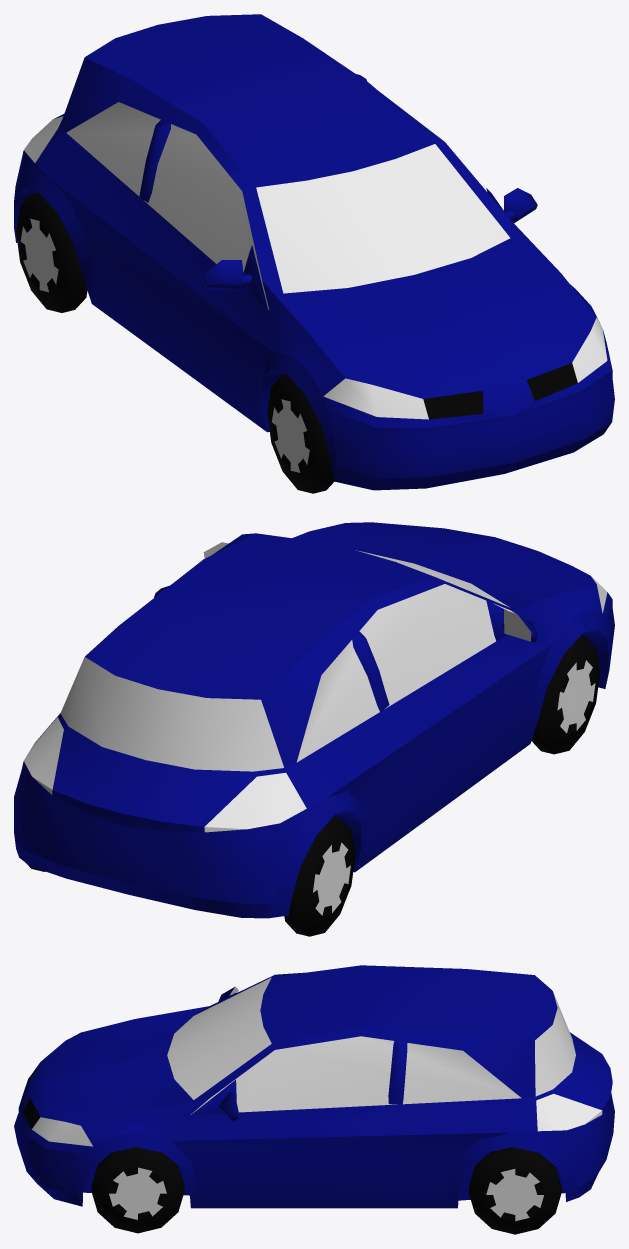
The model's file is машинасиняя.fbx.
3 views of the same model, one above another, from view 1: azimuth 30°, elevation 25°; view 2: azimuth 150°, elevation 25°; view 3: azimuth 270°, elevation 25° (orthographic). The views are drawn at different scales.
Visible parts, largest first — view 1: Plane.003; view 2: Plane.003; view 3: Plane.003.
Part boxes in pixels (x1,y1,x2,y2): Plane.003: [14, 14, 614, 493]; Plane.003: [14, 522, 614, 936]; Plane.003: [14, 965, 614, 1234].
Size of the model in its own units: 202 by 146 by 419.
